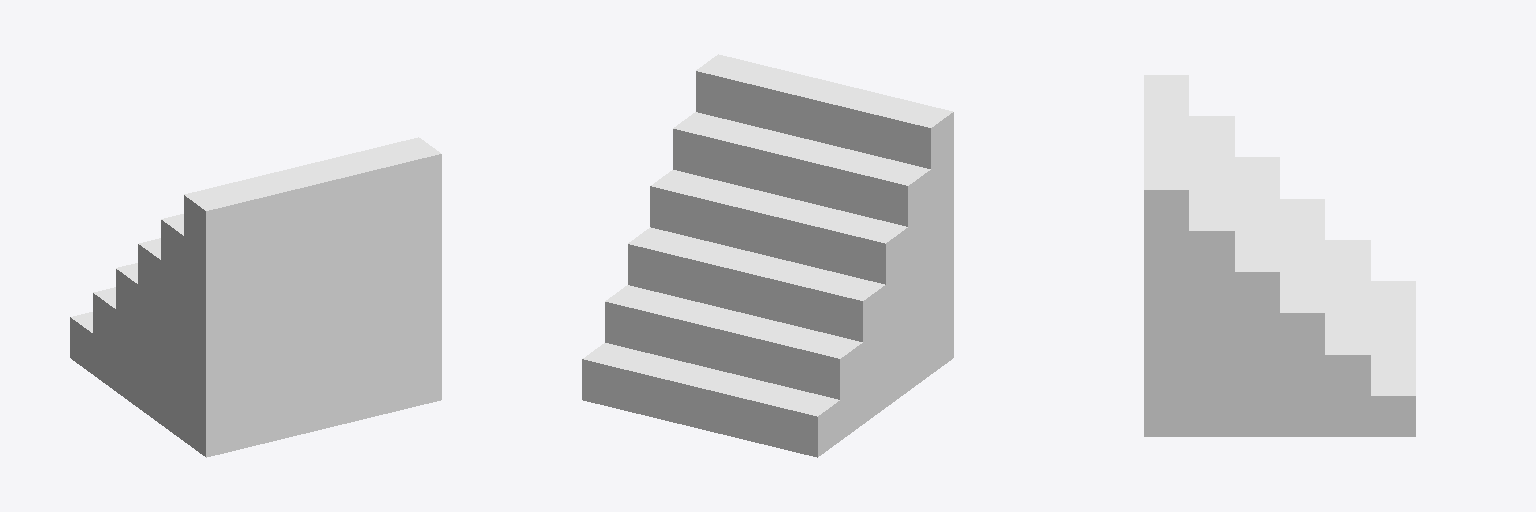
Rendered from SideBlockA.obj.
The picture shows the model from 3 angles: view 1: azimuth 30°, elevation 25°; view 2: azimuth 150°, elevation 25°; view 3: azimuth 270°, elevation 25°; orthographic projection.
Visible parts, largest first — view 1: object 1; view 2: object 1; view 3: object 1.
Boxes of the visible parts, box(x1,y1,x2,y2) form: object 1: box(70, 137, 441, 457); object 1: box(582, 54, 953, 457); object 1: box(1144, 75, 1415, 436).
Size of the model in its own units: 0.6 by 0.6 by 0.6.